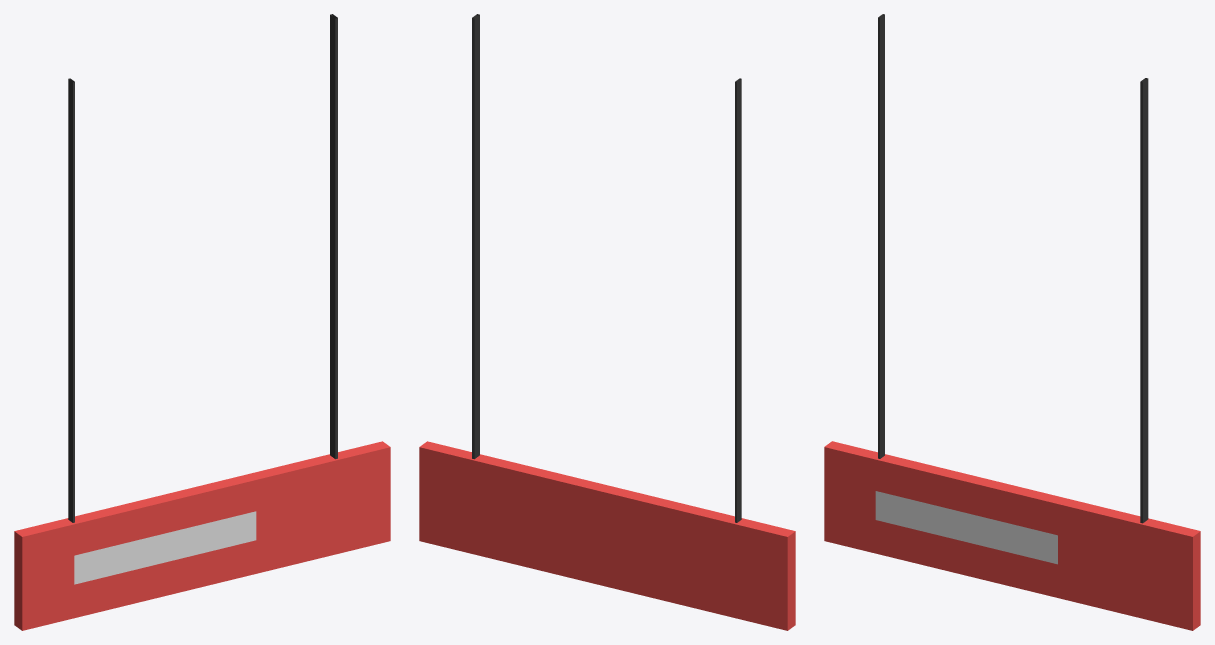
File: entertainment_030.glb
3 renders of one model, left to right at view 1: azimuth 30°, elevation 25°; view 2: azimuth 150°, elevation 25°; view 3: azimuth 330°, elevation 25°, orthographic.
Parts seen in each view (by area): view 1: entertainment_030; view 2: entertainment_030; view 3: entertainment_030.
Boxes of the visible parts, x1,y1,x2,y2 form: entertainment_030: (14, 14, 390, 630); entertainment_030: (419, 14, 795, 630); entertainment_030: (824, 14, 1200, 630).
Size of the model in its own units: 1.11 by 1.54 by 0.0428.
Materials: 1 (1 with a texture image).
